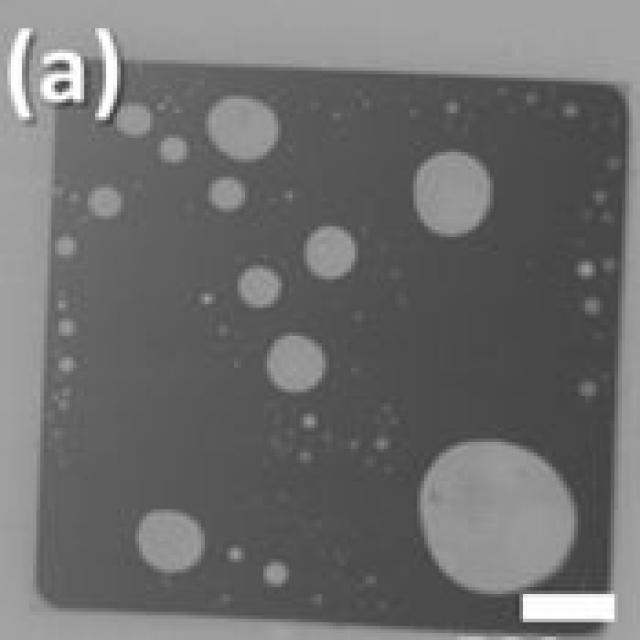component: (44, 60, 629, 631)
void: (424, 442, 578, 596), (417, 152, 497, 239), (208, 95, 282, 163), (139, 513, 205, 576), (267, 336, 329, 396), (304, 226, 358, 281), (238, 265, 285, 309), (208, 177, 249, 214), (91, 187, 124, 217), (117, 106, 150, 136), (263, 562, 293, 589), (161, 138, 187, 164), (55, 237, 77, 258), (585, 297, 603, 318), (578, 262, 600, 279), (59, 318, 77, 338), (581, 382, 600, 400), (563, 103, 581, 120), (607, 156, 625, 173), (227, 548, 245, 564), (596, 191, 611, 209), (603, 258, 618, 274), (201, 293, 216, 308), (59, 357, 73, 373), (304, 414, 318, 430), (300, 453, 315, 467), (377, 438, 391, 453), (446, 103, 461, 117), (366, 576, 380, 590), (527, 92, 541, 106), (389, 265, 402, 280), (233, 356, 247, 368), (382, 402, 395, 414), (603, 212, 616, 224), (285, 191, 296, 205), (219, 325, 230, 338), (355, 311, 366, 324), (311, 598, 325, 608), (60, 386, 71, 398), (384, 464, 395, 476), (585, 209, 595, 222), (351, 442, 362, 453), (333, 113, 344, 124), (59, 400, 69, 412), (59, 301, 69, 311), (52, 186, 63, 194), (410, 106, 419, 115), (388, 418, 398, 426), (68, 193, 79, 200), (497, 86, 507, 93), (366, 458, 375, 464)
